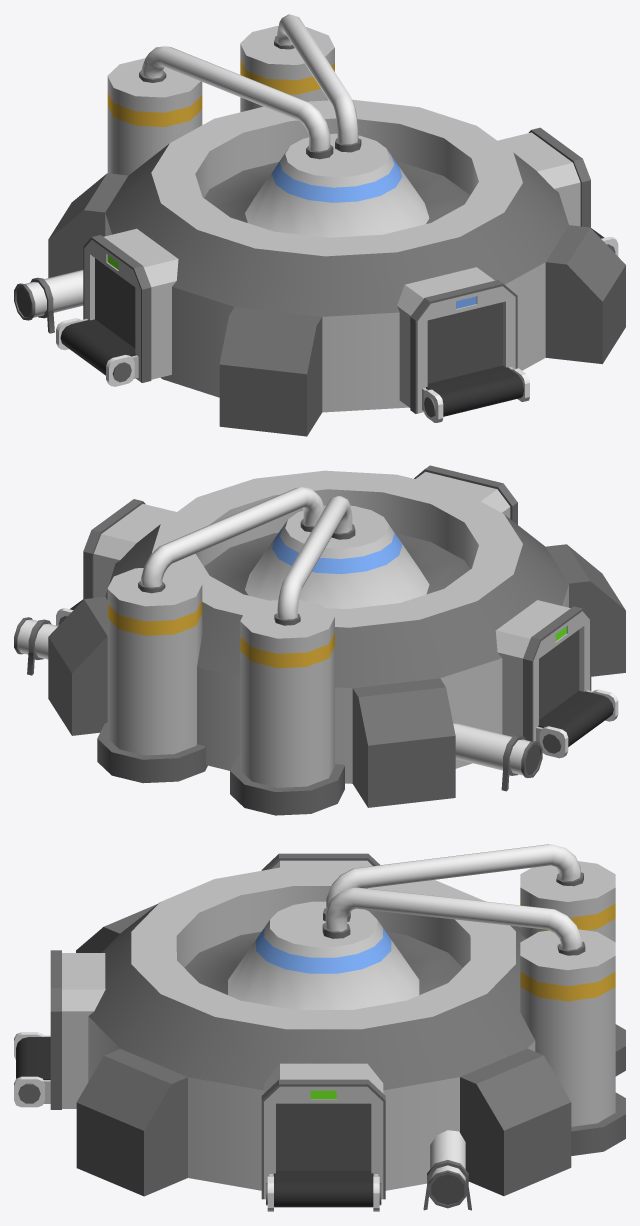
File: Solidifier.fbx
3 views of the same model, one above another, from view 1: azimuth 30°, elevation 25°; view 2: azimuth 150°, elevation 25°; view 3: azimuth 270°, elevation 25° (orthographic). The views are drawn at different scales.
Visible parts, largest first — view 1: Solidifier; view 2: Solidifier; view 3: Solidifier.
Boxes of the visible parts, x1,y1,x2,y2 form: Solidifier: (14, 14, 625, 436); Solidifier: (14, 465, 625, 815); Solidifier: (14, 844, 625, 1211).
Size of the model in its own units: 500 by 196 by 493.
